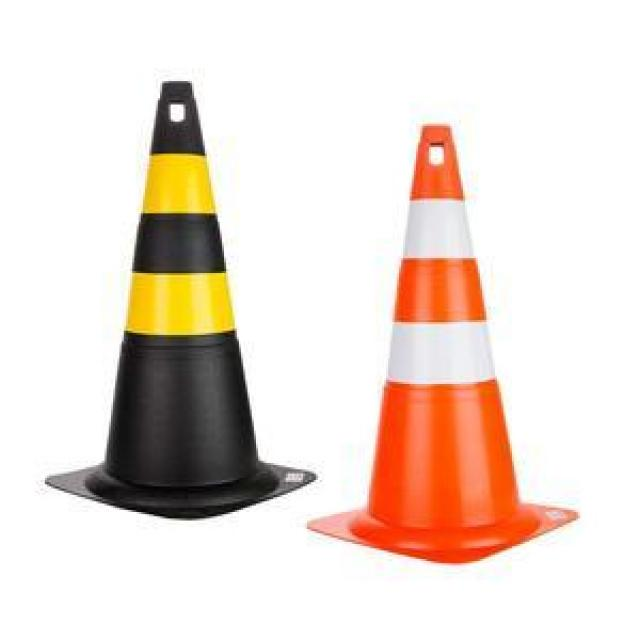cone: (56, 93, 298, 508), (340, 109, 550, 554)
